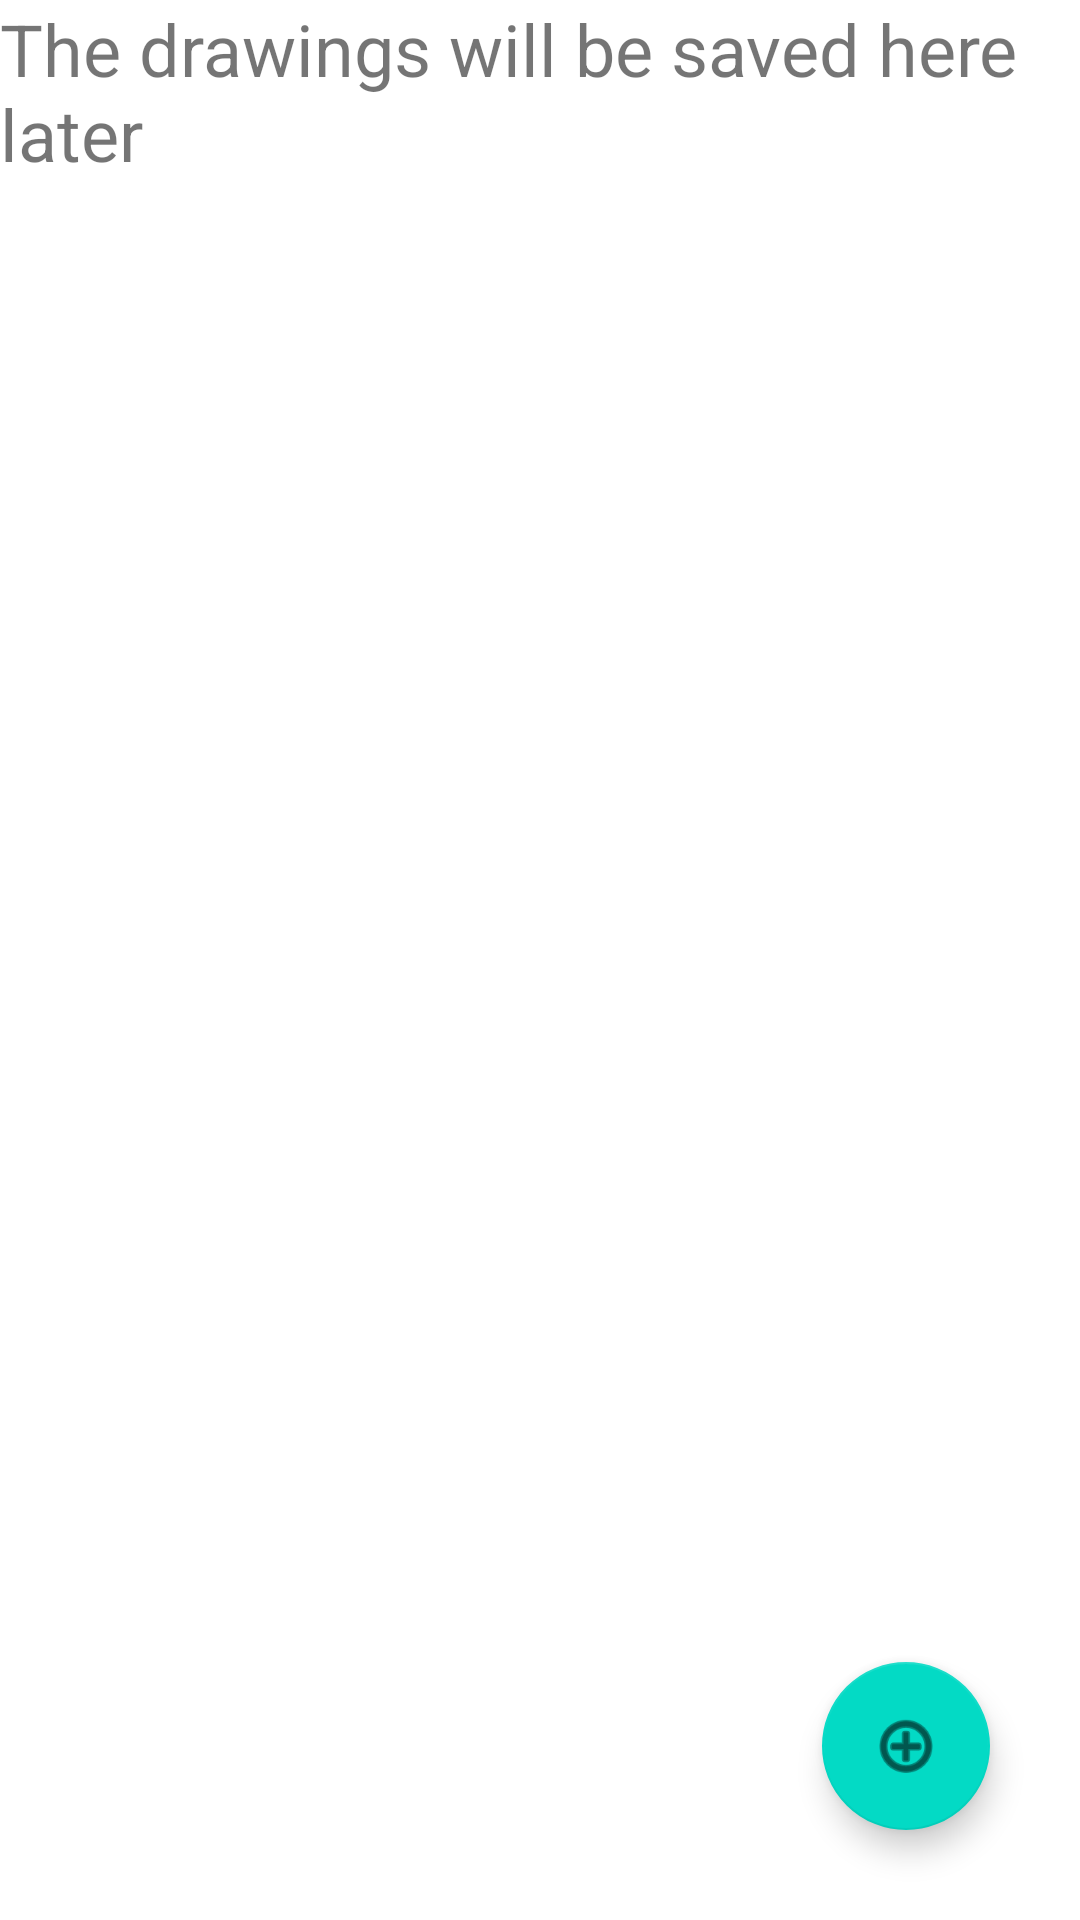

Icon bounding boxes for this 1080w x 1920h phone screenshot, format (x1, y1, x2, y2):
Creates new project: (822, 1662, 990, 1830)
